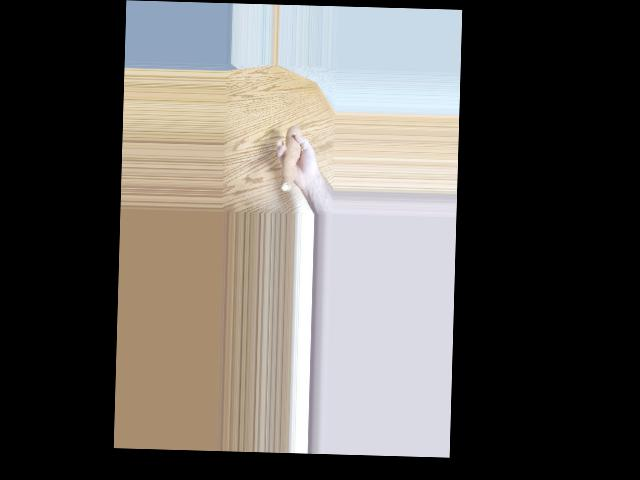sweet_potato: (280, 129, 303, 186)
